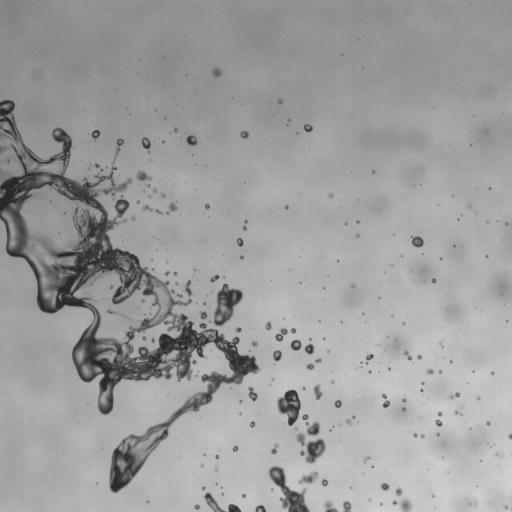droplet: (211, 284, 243, 326), (276, 389, 301, 425), (393, 498, 412, 511), (136, 171, 152, 181), (324, 500, 338, 511), (313, 384, 322, 399), (166, 202, 177, 214), (411, 236, 423, 247), (141, 137, 150, 151), (248, 386, 257, 400), (186, 135, 197, 145), (90, 130, 100, 139), (342, 501, 351, 511), (273, 350, 281, 361), (212, 68, 221, 77), (365, 353, 373, 363), (240, 130, 249, 138), (346, 416, 354, 425), (255, 505, 266, 511), (304, 124, 312, 132), (380, 483, 389, 490), (395, 487, 402, 496), (142, 205, 152, 211), (236, 238, 243, 246), (210, 275, 218, 282), (199, 311, 206, 319), (334, 400, 341, 407), (435, 419, 442, 426), (155, 209, 163, 215), (265, 322, 271, 330), (306, 363, 314, 369), (426, 368, 433, 374), (322, 478, 327, 486), (454, 410, 461, 415), (235, 327, 241, 332), (251, 341, 257, 346), (364, 456, 369, 462), (437, 411, 442, 416), (233, 446, 238, 451), (194, 504, 199, 509), (315, 358, 321, 362), (250, 421, 254, 427), (278, 99, 282, 104), (94, 163, 99, 167), (328, 193, 333, 197), (205, 203, 209, 208), (141, 298, 145, 303), (243, 224, 246, 230), (161, 193, 165, 197), (131, 216, 135, 220), (165, 271, 169, 275), (142, 336, 146, 340), (417, 355, 421, 359), (490, 371, 494, 375), (402, 398, 406, 402), (486, 421, 490, 425), (413, 433, 417, 437), (473, 501, 477, 505), (174, 128, 177, 132), (152, 189, 156, 192), (468, 204, 471, 208), (432, 278, 435, 282), (242, 493, 245, 497), (146, 184, 149, 187), (421, 434, 424, 437), (215, 455, 218, 458), (202, 486, 205, 489), (215, 467, 217, 471), (162, 140, 164, 143), (136, 201, 139, 203), (285, 206, 288, 208), (356, 234, 359, 236), (240, 256, 243, 258), (174, 272, 176, 275), (203, 302, 206, 304), (439, 370, 441, 373), (331, 380, 333, 383), (421, 382, 424, 384), (302, 387, 305, 389), (402, 408, 405, 410), (436, 433, 439, 435), (148, 195, 150, 197), (357, 221, 359, 223), (388, 367, 390, 369), (477, 397, 479, 399), (239, 400, 241, 402)
ligament: (0, 100, 259, 492), (268, 466, 310, 511), (293, 414, 325, 463), (204, 492, 241, 511), (290, 339, 314, 354), (275, 328, 296, 341), (50, 200, 66, 216), (298, 471, 317, 484), (115, 139, 123, 156), (382, 394, 389, 407), (271, 443, 278, 454), (404, 350, 411, 360), (449, 392, 459, 399), (504, 505, 511, 511), (495, 452, 502, 457), (508, 433, 511, 439), (510, 496, 511, 499)
